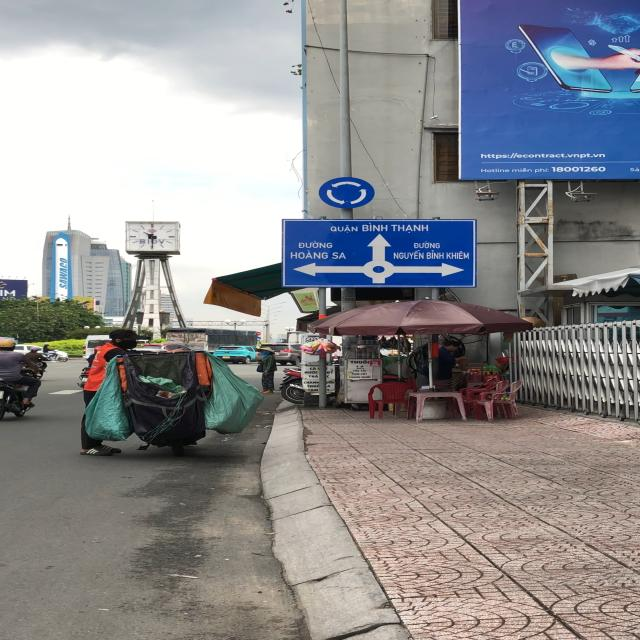Bien bao noi giao nhau chay theo vong xuyen: (316, 176, 376, 212)
